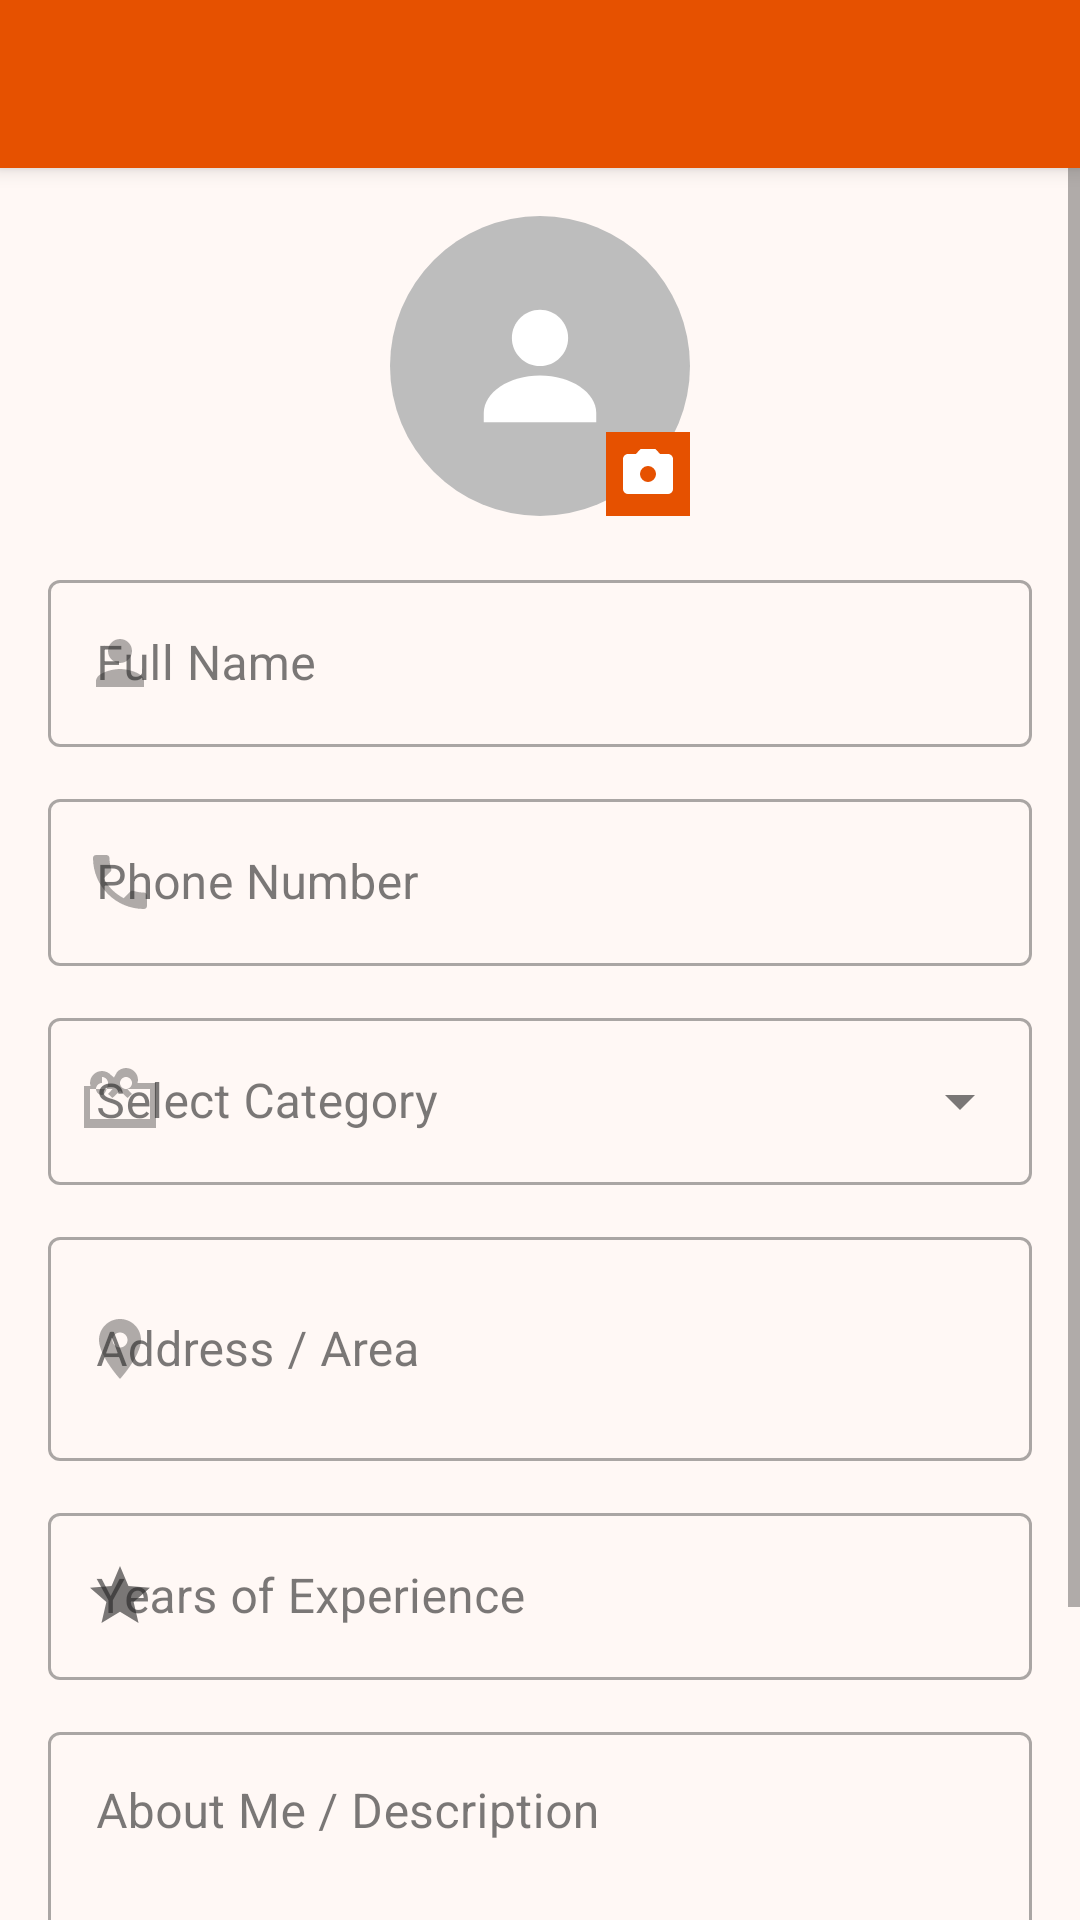

Icon click points for this 1080px×1920px phone screenshot, format (x=x, y=y):
Camera: (x=648, y=474)
